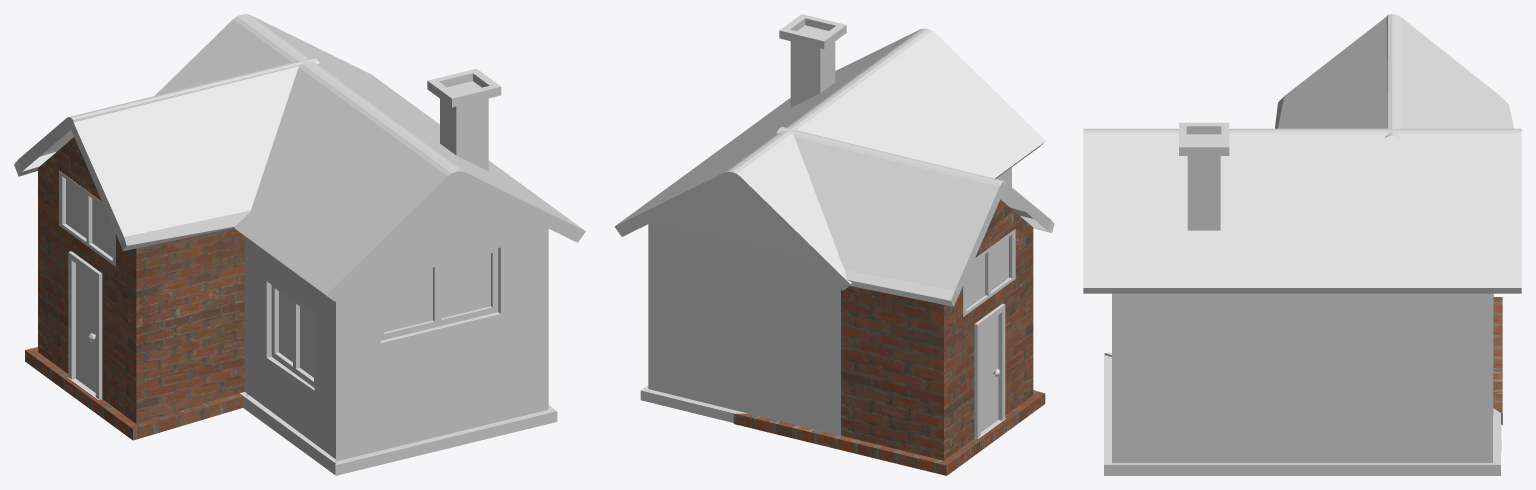
3 renders of one model, left to right at view 1: azimuth 30°, elevation 25°; view 2: azimuth 150°, elevation 25°; view 3: azimuth 270°, elevation 25°, orthographic. The views are drawn at different scales.
Visible parts, largest first — view 1: Side house, Side roof, Main house, Main roof, Window3, Chimney, Door, Windowframe3, Window1, Window2, Windowframe2, Windowframe1 (+1 smaller); view 2: Side house, Side roof, Main house, Main roof, Chimney, Door, Window1, Windowframe1, Window1.001; view 3: Side house, Side roof, Main roof, Chimney, Main house.
Boxes of the visible parts, x1,y1,x2,y2 form: Side house: [239, 183, 557, 475]; Side roof: [155, 14, 585, 301]; Main house: [25, 137, 248, 440]; Main roof: [14, 57, 319, 251]; Window3: [383, 253, 490, 332]; Chimney: [427, 68, 501, 170]; Door: [68, 251, 102, 399]; Windowframe3: [380, 248, 498, 340]; Window1: [66, 179, 112, 257]; Window2: [279, 291, 313, 377]; Windowframe2: [271, 285, 314, 387]; Windowframe1: [59, 171, 115, 266]; Side house: [640, 167, 1011, 435]; Side roof: [614, 28, 1045, 290]; Main house: [733, 199, 1045, 475]; Main roof: [776, 126, 1054, 306]; Chimney: [779, 14, 846, 107]; Door: [974, 303, 1005, 438]; Window1: [966, 237, 1008, 307]; Windowframe1: [963, 229, 1015, 316]; Window1.001: [963, 230, 1013, 316]; Side house: [1104, 293, 1501, 475]; Side roof: [1083, 128, 1521, 293]; Main roof: [1275, 14, 1513, 138]; Chimney: [1179, 122, 1229, 230]; Main house: [1493, 297, 1502, 424].
Bounding box in the file's own units: 686 × 564 × 700.
